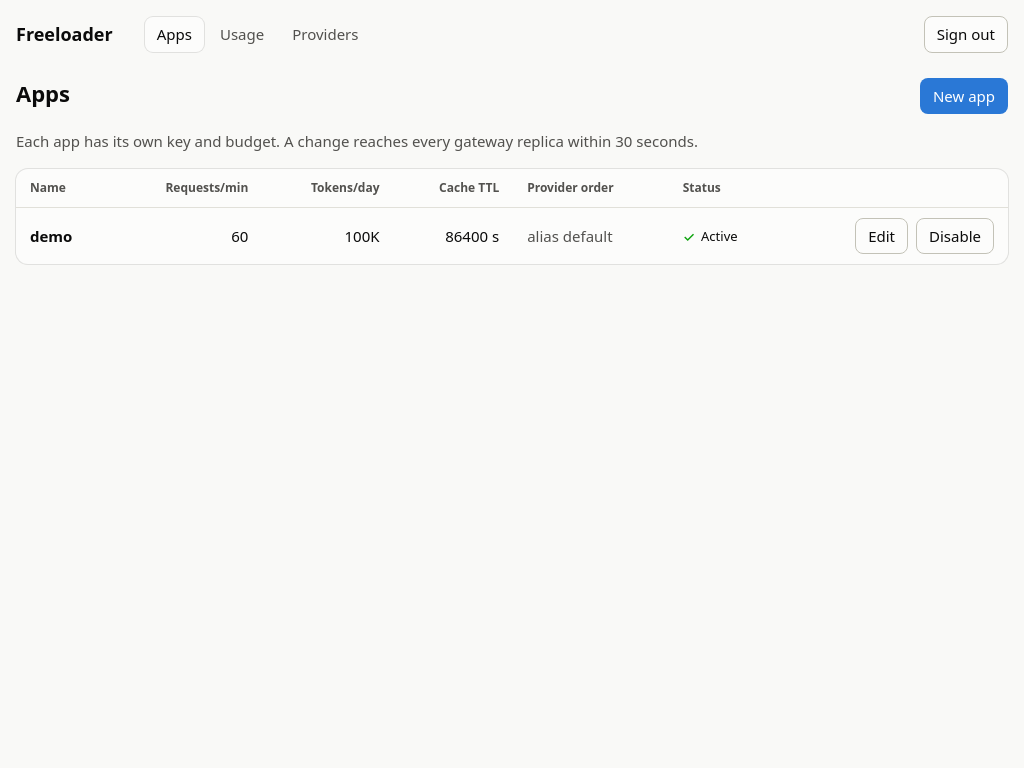
Test case: Apps page › keeps the dialog open and shows the server's message when the name is taken
Click the button "New app" at (964,96), box top-left (920, 78), bottom-right (1008, 114)
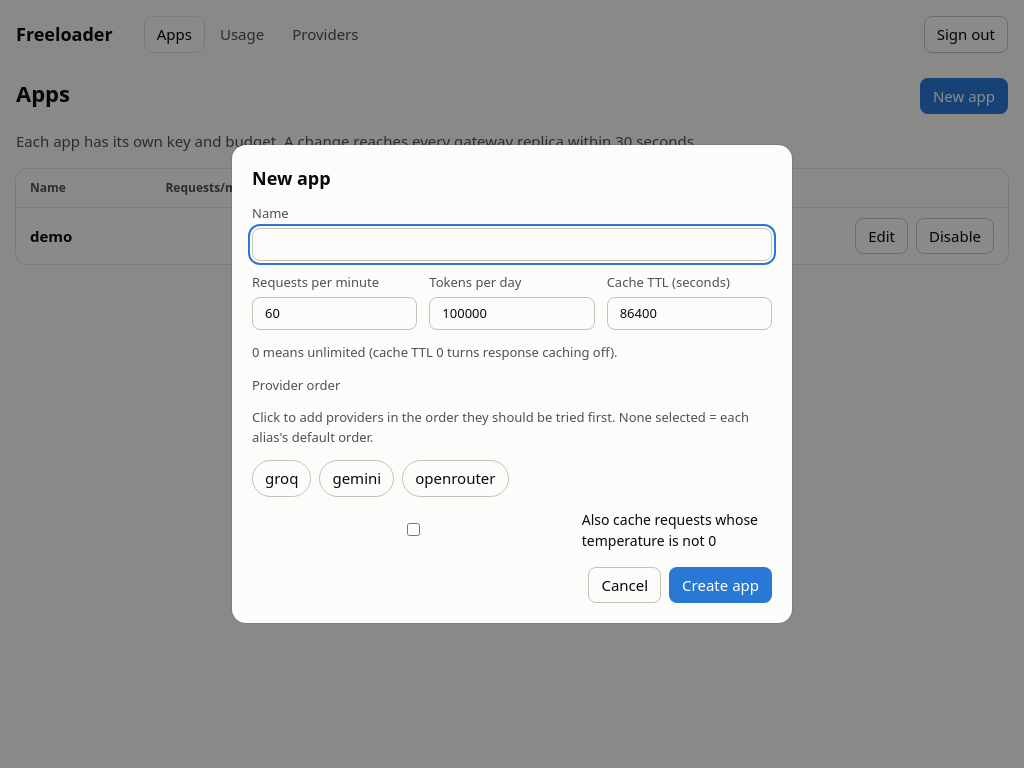
Type "demo" into the field labelled "Name" at (512,244), box top-left (252, 228), bottom-right (772, 261)
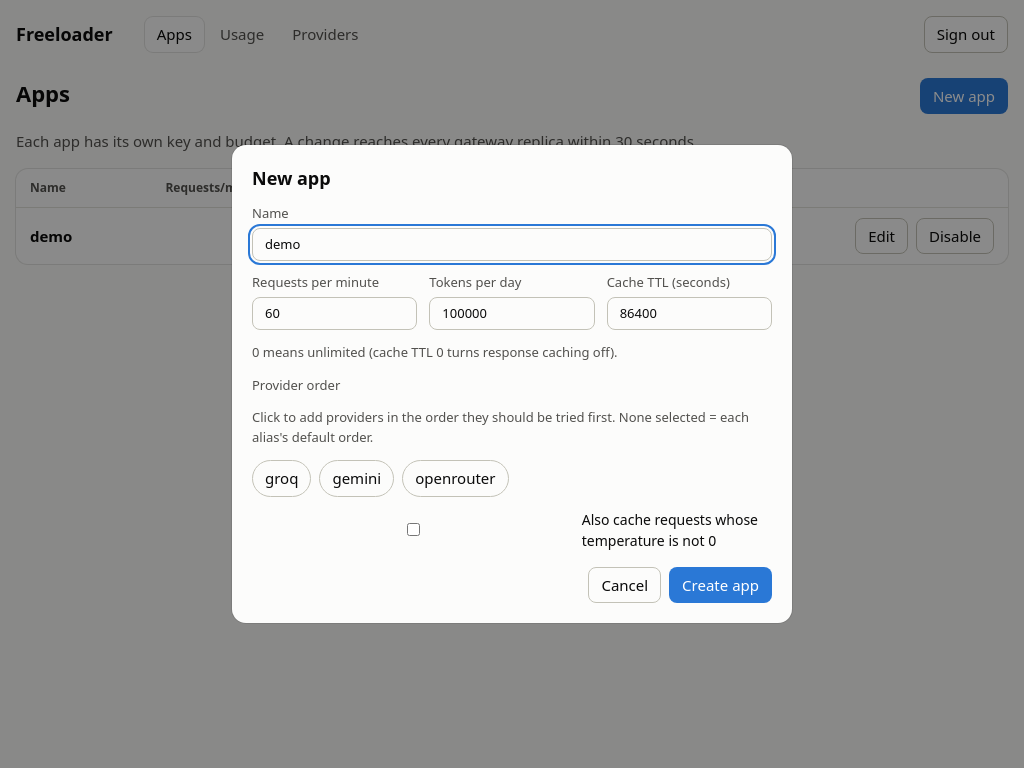
Click the button "Create app" at (721,585), box top-left (669, 566), bottom-right (772, 603)
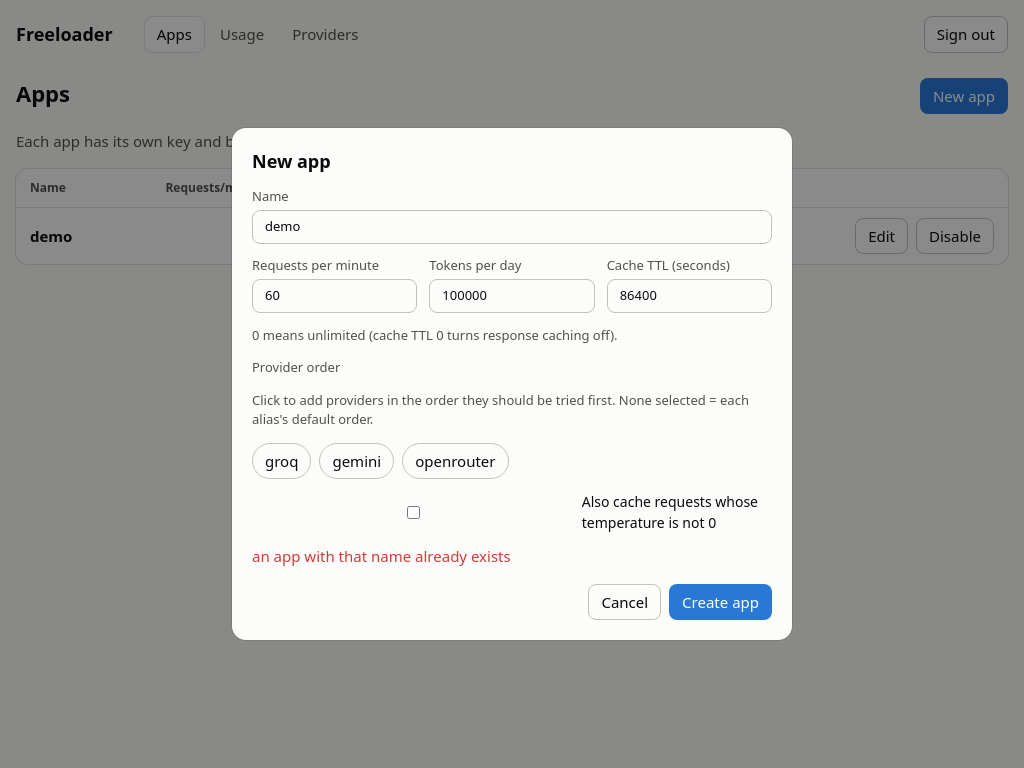
Now the button "Create app" is enabled, box top-left (669, 584), bottom-right (772, 620)
Now the message shows "already exists", box top-left (252, 546), bottom-right (511, 566)
